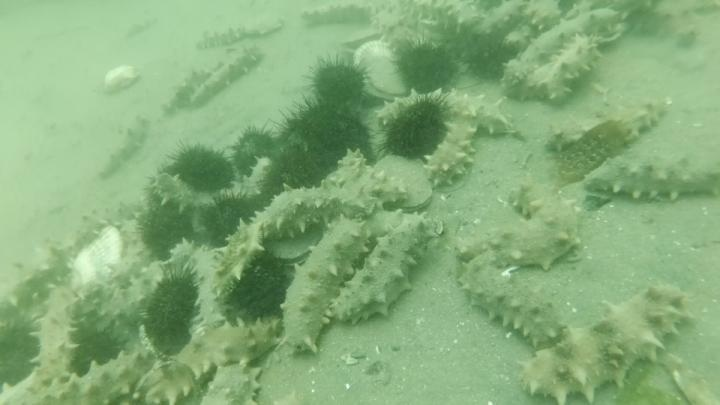echinus: (273, 95, 376, 184), (376, 90, 455, 163), (60, 337, 149, 399), (140, 266, 204, 352), (223, 252, 296, 324), (255, 141, 332, 207), (102, 258, 168, 330), (1, 301, 45, 394), (135, 200, 199, 263), (225, 121, 286, 187), (64, 320, 130, 381), (186, 193, 254, 252), (166, 140, 237, 196), (393, 38, 460, 96), (306, 54, 371, 107), (223, 151, 280, 204), (463, 40, 520, 83)
holothurian: (516, 280, 694, 404), (248, 151, 405, 253), (277, 215, 374, 359), (330, 214, 439, 330), (148, 314, 284, 405), (462, 179, 585, 276), (455, 252, 568, 351), (506, 8, 622, 93), (539, 104, 669, 175), (580, 153, 720, 208), (165, 44, 265, 114), (27, 281, 85, 395), (320, 147, 412, 218), (250, 181, 348, 246), (1, 230, 80, 308), (54, 348, 161, 404), (538, 29, 610, 107), (163, 237, 231, 319), (63, 193, 148, 255), (423, 108, 483, 191), (434, 88, 521, 141), (96, 114, 152, 182), (114, 258, 168, 323), (396, 1, 488, 39), (200, 357, 267, 404), (145, 168, 209, 217), (160, 65, 213, 116), (299, 1, 375, 33), (194, 21, 266, 52), (476, 1, 523, 31), (504, 25, 550, 53)
scallop: (66, 223, 127, 301), (367, 153, 436, 214), (349, 39, 412, 104), (262, 222, 329, 264), (101, 62, 142, 97)
